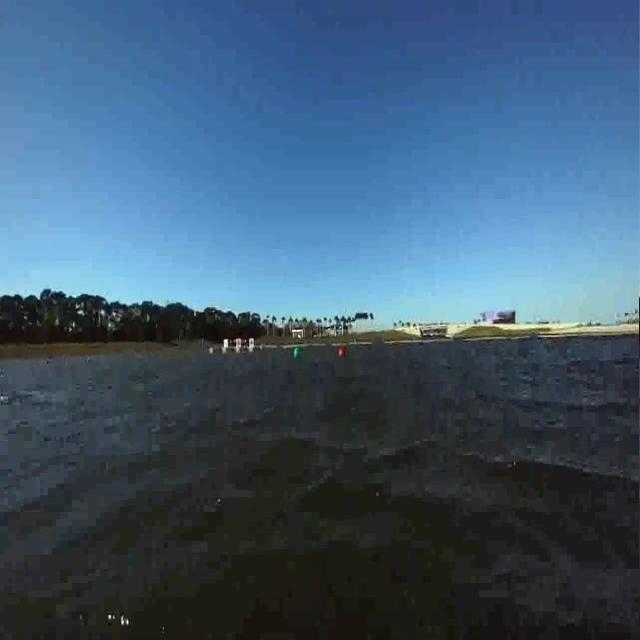green-buoy: (293, 346, 301, 359)
red-buoy: (339, 347, 346, 358)
